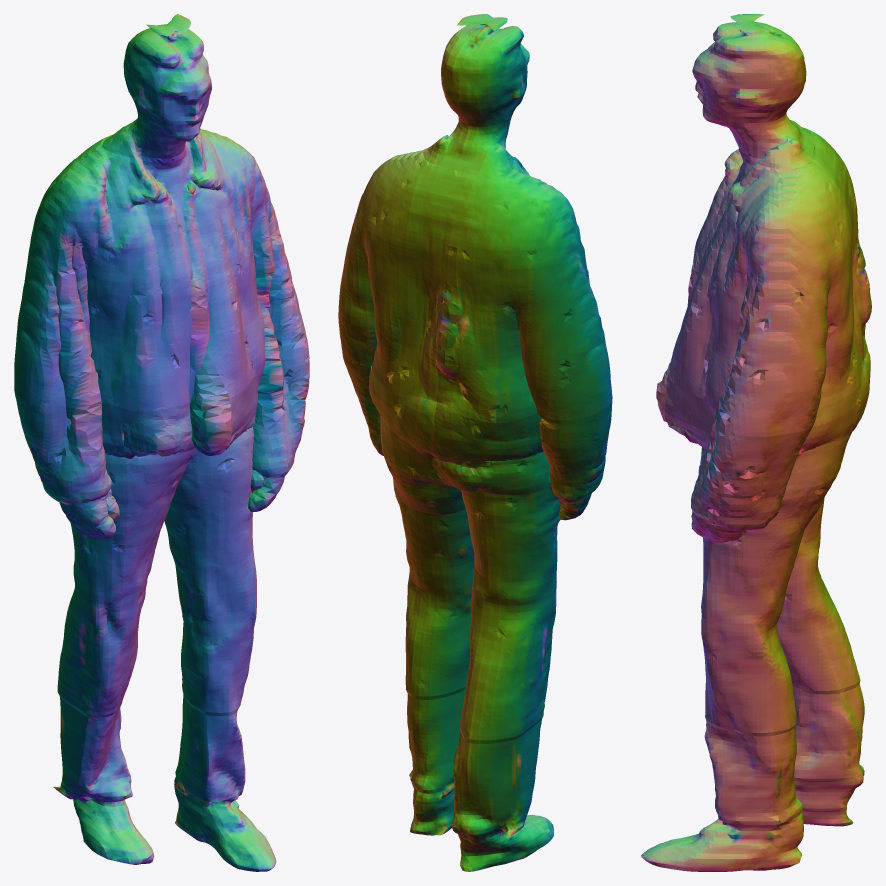
The model's file is changed.obj.
3 views of the same model, side by side, from view 1: azimuth 30°, elevation 25°; view 2: azimuth 150°, elevation 25°; view 3: azimuth 270°, elevation 25° (orthographic).
Bounding box in the file's own units: 0.5533 × 1.62 × 0.413.
